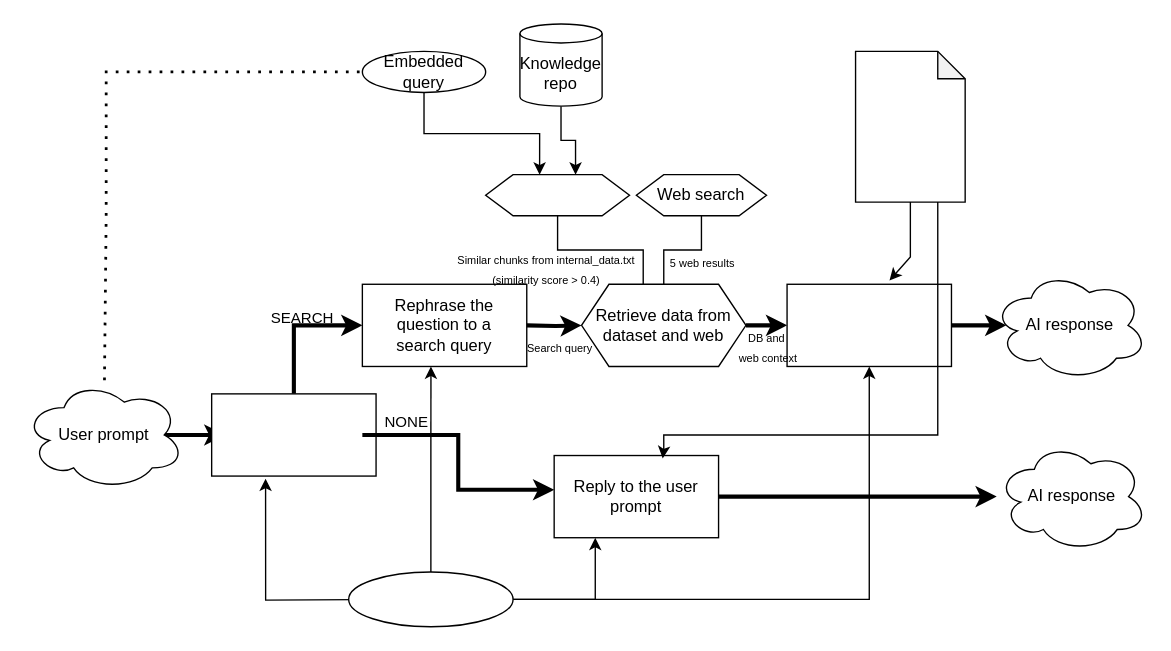
Image size: 1171x651. Some labels were removed from this diagram. Each missing label, with the centre of its shape:
"Chat history of the session" goes at (430,599).
"Configuration data : rules.txt mission.txt" goes at (909,126).
"Determine action (Search or not)" goes at (293,434).
"Semantic search" goes at (557,194).
"Synthesize retrieved data and reply to the user's prompt" goes at (868,324).
